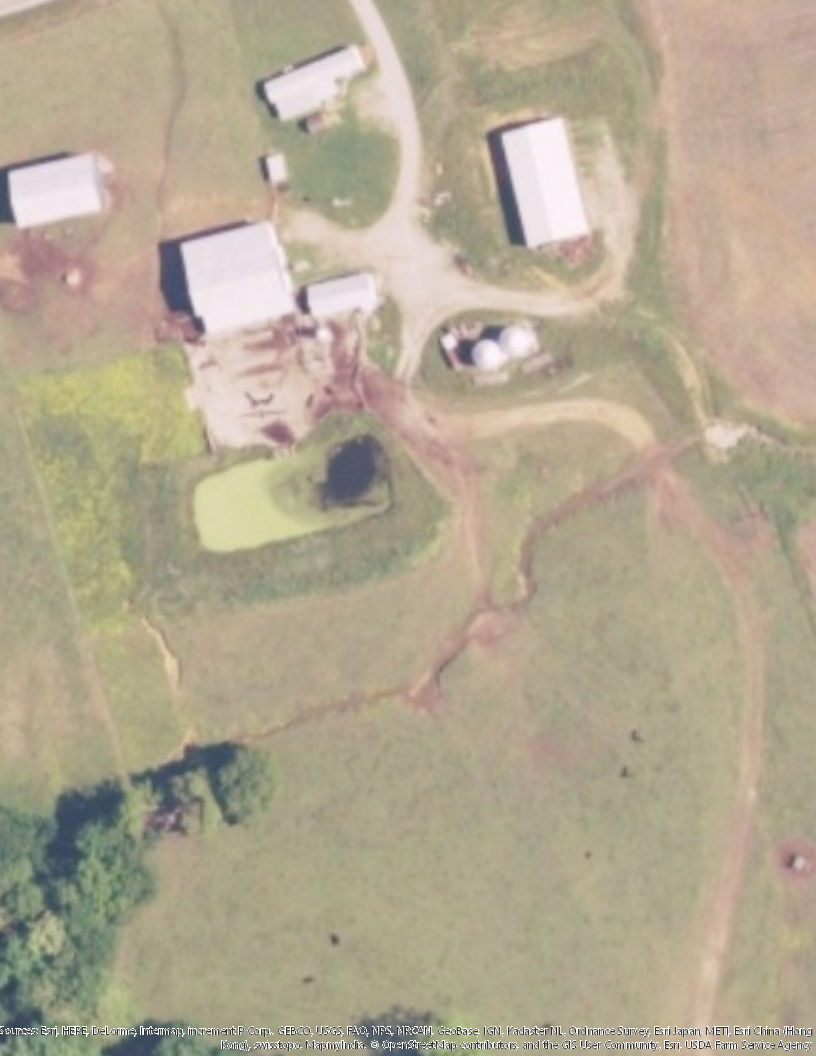cafo: (493, 111, 602, 253), (173, 223, 303, 333), (2, 150, 110, 232)
